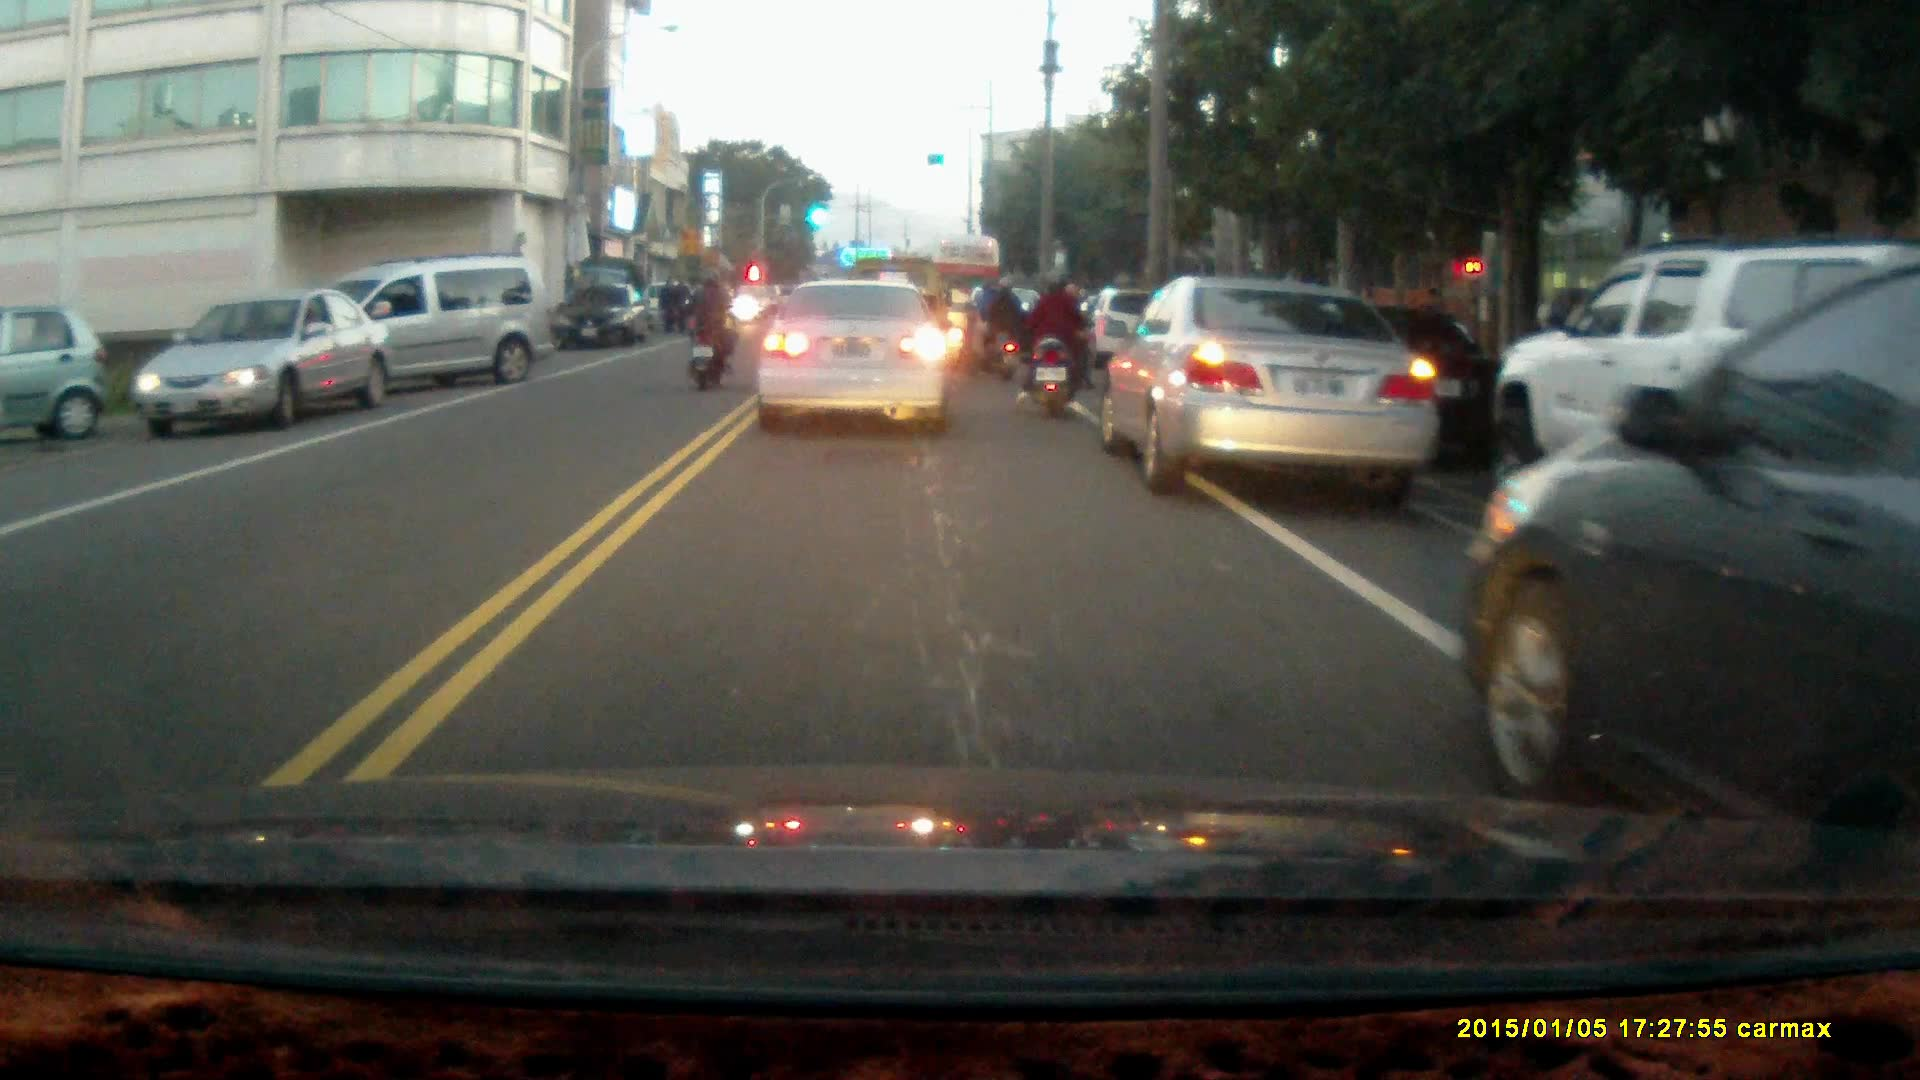pedestrian: (657, 277, 682, 339)
rider: (1015, 267, 1094, 420), (961, 270, 1023, 381), (683, 273, 736, 390)
vehicle: (1461, 253, 1920, 896), (1485, 248, 1920, 556), (1094, 271, 1440, 496), (273, 256, 555, 409), (135, 291, 391, 436), (755, 279, 950, 441), (1, 296, 110, 441), (552, 282, 650, 352)
